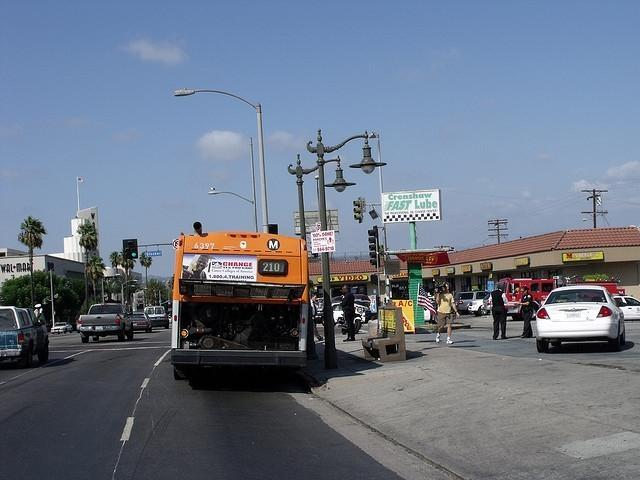bus: (166, 230, 315, 379)
car: (533, 287, 628, 359), (332, 303, 368, 323), (454, 290, 488, 311), (613, 294, 640, 320), (144, 306, 169, 330), (468, 292, 492, 316), (130, 314, 148, 332), (51, 322, 72, 334), (168, 315, 172, 324)
truck: (166, 233, 308, 383), (496, 278, 627, 321), (0, 305, 50, 368), (77, 302, 134, 342)
